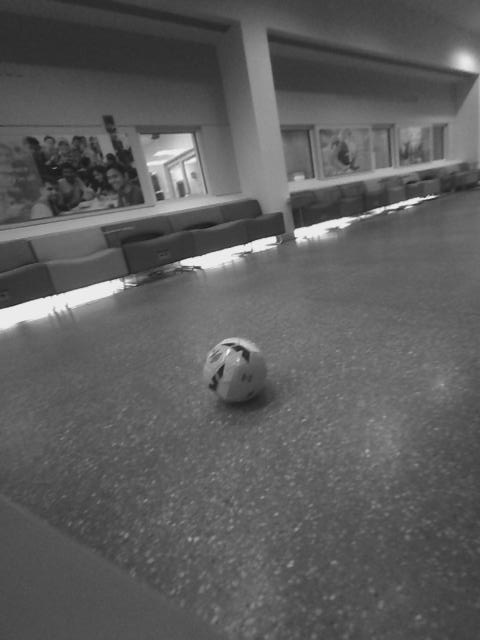ball: (196, 336, 274, 408)
